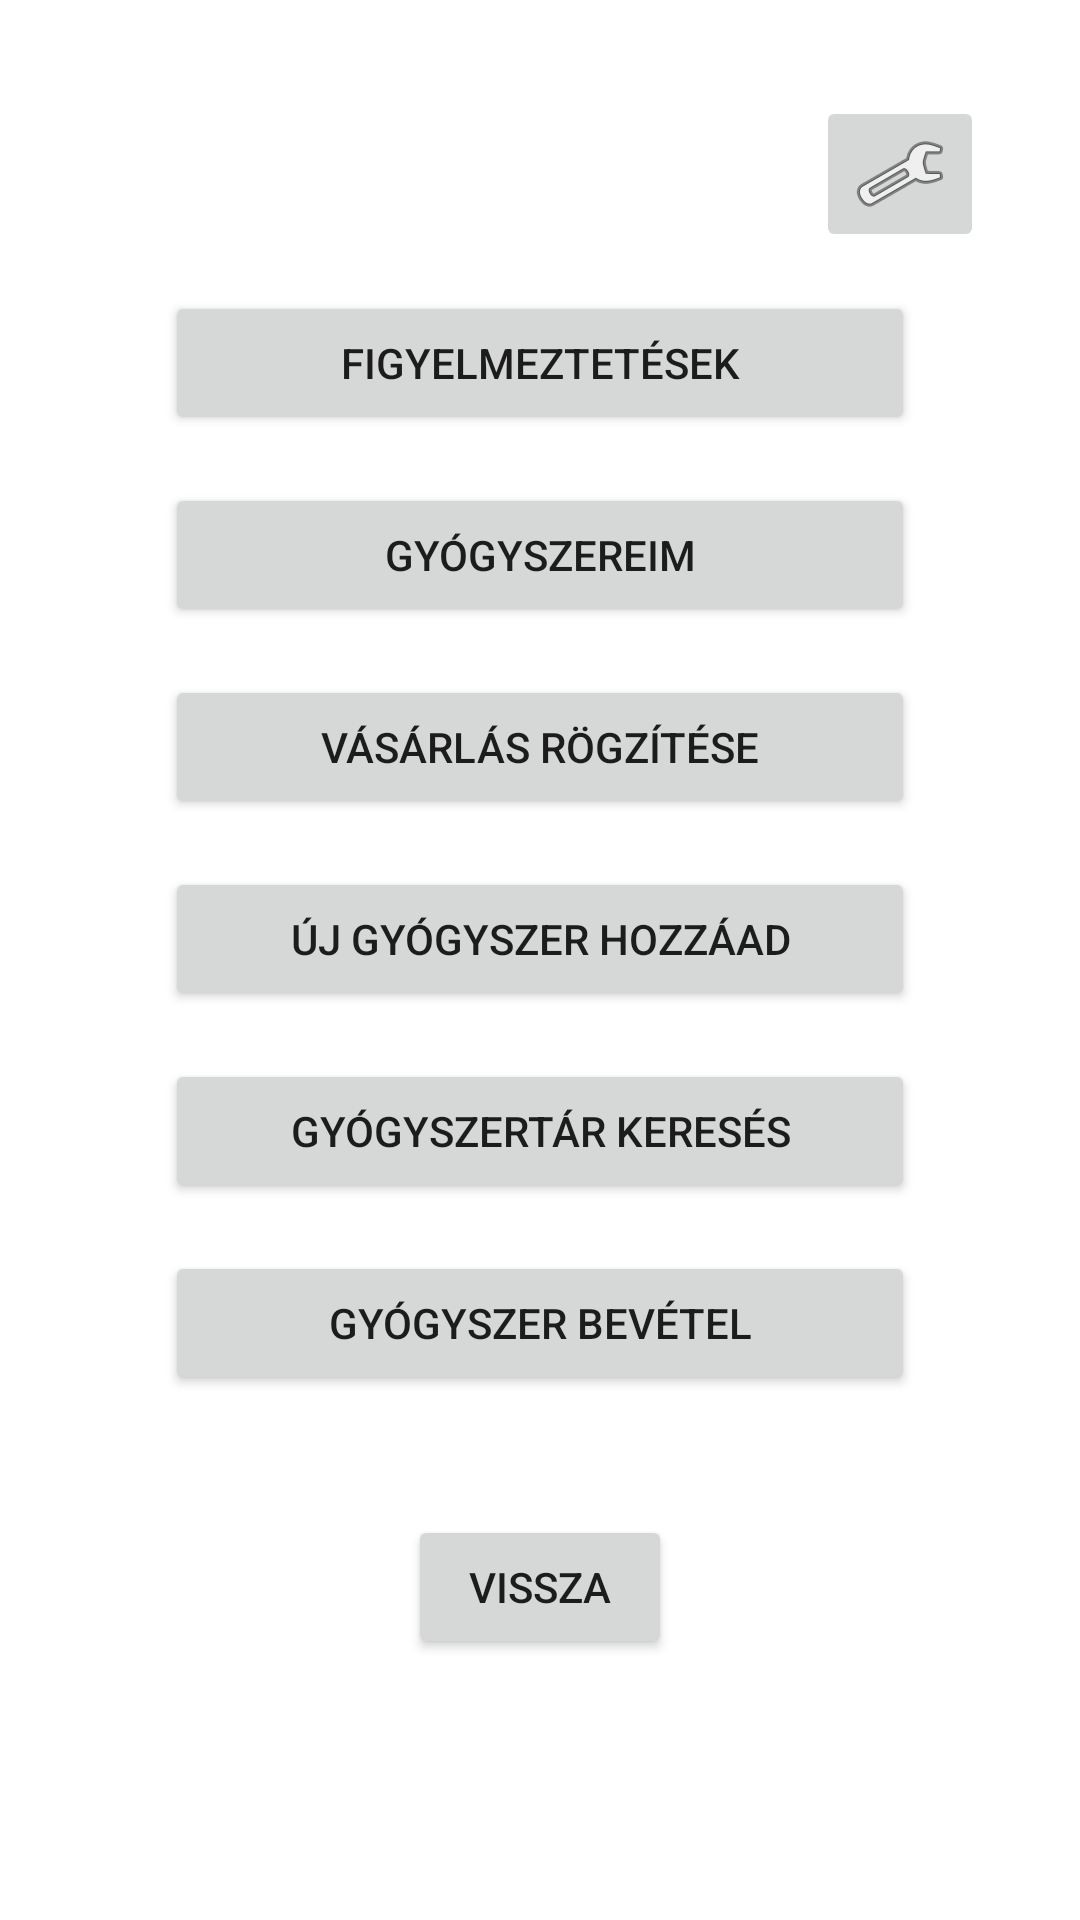

Locate icon controls on the screen. Image size 1080 x 1920, boxes as (x1, y1, x2, y2).
manage: (828, 114, 972, 234)
